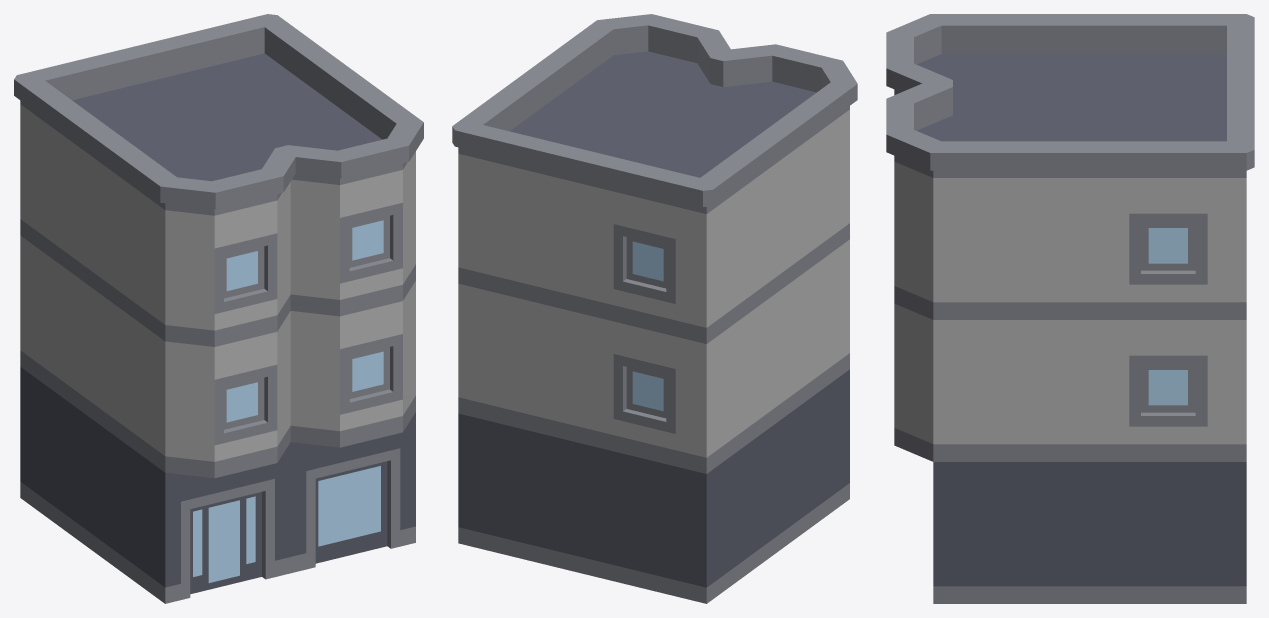
File: building_small_a.glb
The picture shows the model from 3 angles, left to right: view 1: azimuth 30°, elevation 25°; view 2: azimuth 150°, elevation 25°; view 3: azimuth 270°, elevation 25°; orthographic projection. The views are drawn at different scales.
Visible parts, largest first — view 1: small_buildingA; view 2: small_buildingA; view 3: small_buildingA.
Boxes of the visible parts, bbox=[...] form: small_buildingA: bbox=[14, 14, 423, 603]; small_buildingA: bbox=[452, 14, 857, 603]; small_buildingA: bbox=[886, 14, 1254, 603].
Size of the model in its own units: 6.72 by 10.24 by 7.52.
